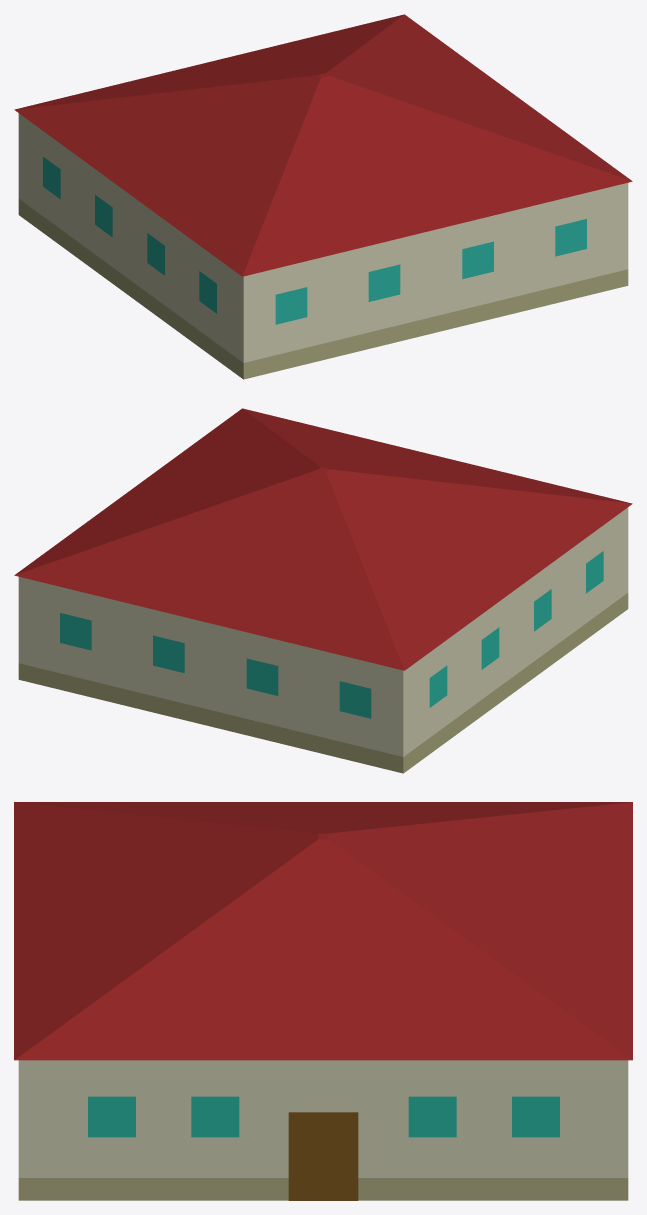
Rendered from House4.gltf.
The picture shows the model from 3 angles, top to bottom: view 1: azimuth 30°, elevation 25°; view 2: azimuth 150°, elevation 25°; view 3: azimuth 270°, elevation 25°; orthographic projection. The views are drawn at different scales.
Visible parts, largest first — view 1: House4; view 2: House4; view 3: House4.
Part boxes in pixels (bbox=[...]): House4: bbox=[14, 14, 632, 379]; House4: bbox=[14, 408, 632, 773]; House4: bbox=[14, 802, 632, 1200].
Bounding box in the file's own units: 3.47 × 1.48 × 3.51.
